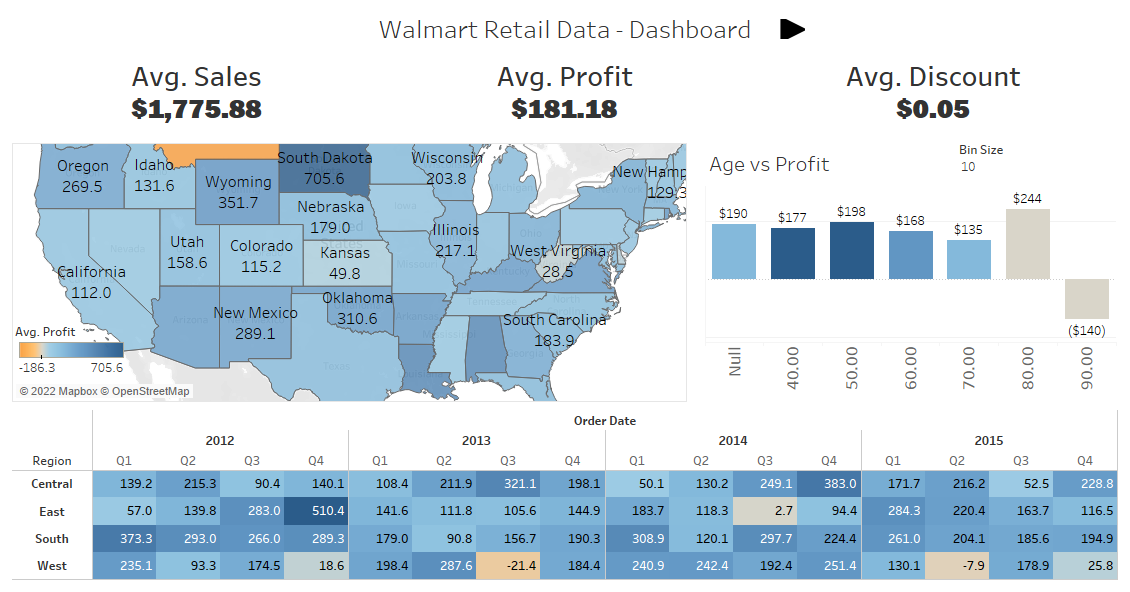

This screenshot's page, from the dashboard's own definition file:
{"tool":"tableau","page":{"name":"Dashboard 1","canvas":[1000,1000],"units":"permille","ordinal":0},"visuals":[{"type":"title","box":[7.1,13.5,985.8,70.9]},{"type":"worksheet","title":"DataSet-info","mark":"Shape","box":[674.3,32.1,92.9,65.9]},{"type":"worksheet","title":"Av measures","mark":"Automatic","box":[7.1,84.5,985.8,133.4]},{"type":"blank","box":[7.1,217.9,985.8,16.9]},{"type":"worksheet","title":"State vs Profit","mark":"Multipolygon","box":[7.1,234.8,604.4,451]},{"type":"blank","box":[611.5,234.8,8.8,451]},{"type":"worksheet","title":"Age vs Profit","mark":"Automatic","rows":["Profit"],"cols":["Customer Age (bin)"],"box":[620.3,234.8,372.6,451]},{"type":"parameter","param":"[Parameters].[Parameter 1]","box":[848.7,236.5,141.6,74.3]},{"type":"legend","title":"State vs Profit","param":"[federated.119cxu115u4dx61gkmtl51ycaiwc].[avg:Profit:qk]","box":[32.7,538.9,100,91.2]},{"type":"worksheet","title":"Regional Profit","mark":"Square","rows":["Region"],"cols":["Order Date","Order Date"],"box":[7.1,685.8,985.8,300.7]}]}

Visuals, with their boxes on the dashboard's canvas, which has no fixed pixel size, in thousandths of its width and height (x1, y1, x2, y2). These are canvas units, not pixel positions in the 1130x592 screenshot, which may show the page scaled, cropped or inside an application window:
title: 7 14 993 84
"DataSet-info" worksheet (Shape marks): 674 32 767 98
"Av measures" worksheet: 7 84 993 218
blank: 7 218 993 235
"State vs Profit" worksheet (Multipolygon marks): 7 235 612 686
blank: 612 235 620 686
"Age vs Profit" worksheet: 620 235 993 686
parameter: 849 236 990 311
"State vs Profit" legend: 33 539 133 630
"Regional Profit" worksheet (Square marks): 7 686 993 986
